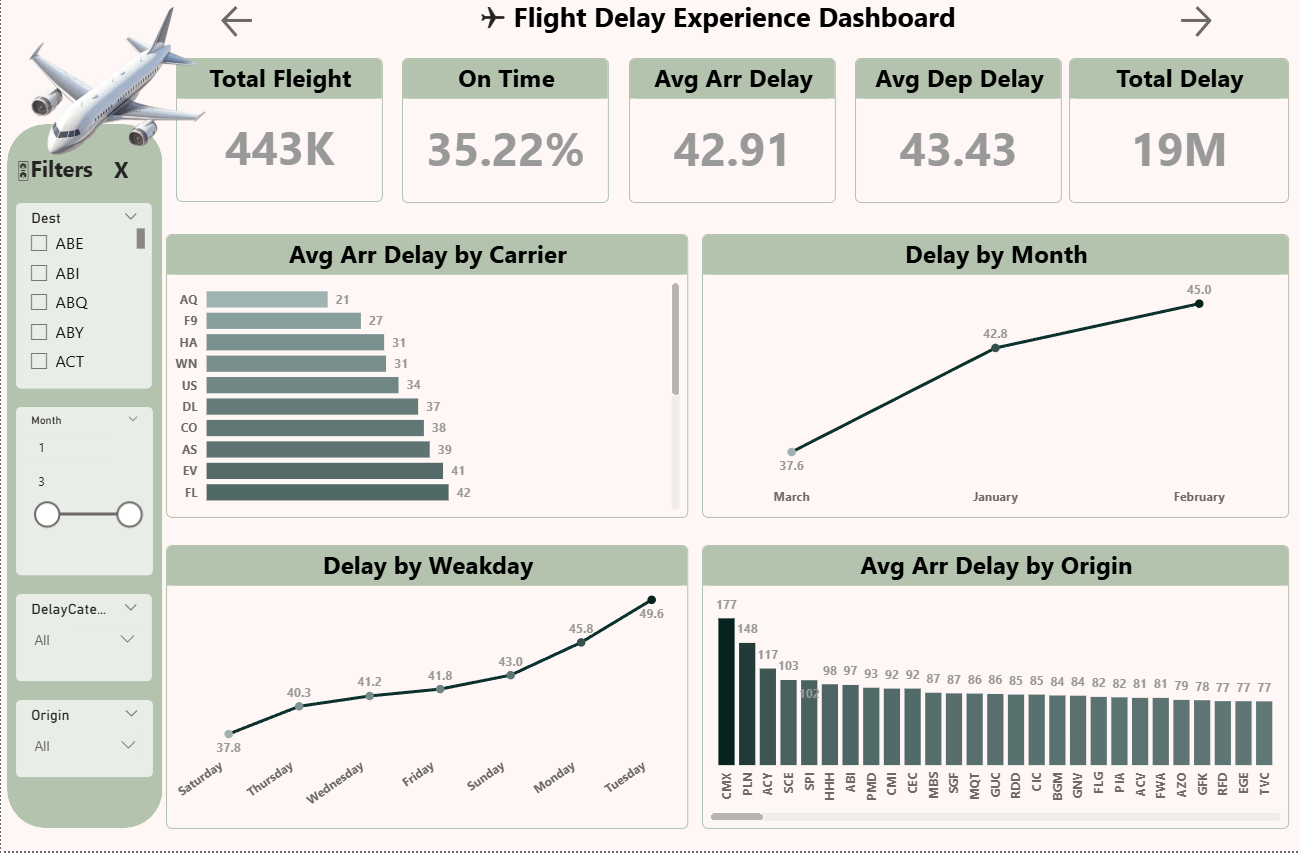

What the dashboard file says about the page in this screenshot:
{"tool":"powerbi","page":{"name":"Overview","canvas":[1280,850],"ordinal":1},"visuals":[{"type":"shape","box":[6.1,133.2,153.4,694.5],"z":0},{"type":"card","title":"Total Fleight","fields":{"Values":["Dax Measures.Total Flights"]},"box":[172.2,68.1,204.3,142],"z":1000},{"type":"card","title":"On Time","fields":{"Values":["Dax Measures.% OnTime"]},"box":[395.6,68.1,204.3,143],"z":2000},{"type":"card","title":"Avg Dep Delay","fields":{"Values":["Dax Measures.Avg Dep Delay"]},"box":[842.6,68.1,204.3,143],"z":3000},{"type":"card","title":"Avg Arr Delay","fields":{"Values":["Dax Measures.Avg Arr Delay"]},"box":[619.1,68.1,204.3,143],"z":4000},{"type":"card","title":"Total Delay","fields":{"Values":["Dax Measures.Total Delay"]},"box":[1053.1,68,216.9,143],"z":5000},{"type":"clusteredBarChart","title":"Avg Arr Delay by Carrier","fields":{"Y":["Dax Measures.Avg Arr Delay"],"Category":["Dim_Carrier.UniqueCarrier"]},"box":[162.4,241.2,514.5,280.1],"z":6000},{"type":"lineChart","title":"Delay by Month","fields":{"Category":["Dim_Date.Date.Variation.Date Hierarchy.Month"],"Y":["Dax Measures.Avg Arr Delay"]},"box":[691.6,241.2,578.7,280.1],"z":7000},{"type":"lineChart","title":"Delay by Weakday","fields":{"Category":["Dim_Date.Day Name"],"Y":["Dax Measures.Avg Arr Delay"]},"box":[162.7,548.3,514.7,280],"z":8000},{"type":"columnChart","fields":{"Category":["Dim_Origin.Origin"],"Y":["Dax Measures.Avg Arr Delay"]},"box":[691.2,548.3,578.8,280],"z":9000},{"type":"textbox","box":[454.6,3.9,503.9,48.3],"z":10000},{"type":"image","box":[0,0,219.9,202.1],"z":11000},{"type":"slicer","fields":{"Values":["Dim_Date.Month"]},"box":[13.5,411.4,136.9,167.7],"z":12000},{"type":"slicer","fields":{"Values":["Dim_Dest.Dest"]},"box":[14.1,210,136.3,184.7],"z":13000},{"type":"slicer","fields":{"Values":["Dim_Origin.Origin"]},"box":[13.8,700.1,137.1,77.9],"z":14000},{"type":"slicer","fields":{"Values":["Dim_DelayCategory.DelayCategory"]},"box":[14.1,595.6,136.3,87.8],"z":15000},{"type":"textbox","box":[9.9,157.8,87.8,40.4],"z":16000},{"type":"actionButton","box":[9.9,153.8,87.8,48.3],"z":17000},{"type":"actionButton","box":[100.6,153.8,35.5,48.3],"z":18000},{"type":"textbox","box":[100.6,158.8,35.5,39.4],"z":19000},{"type":"actionButton","box":[213,11.8,48.3,40.4],"z":20000},{"type":"actionButton","box":[1157.7,11.8,99.6,40.4],"z":21000}]}

Visuals, with their boxes on the page's 1280x850 design canvas (x1, y1, x2, y2). These are canvas units, not pixel positions in the 1300x853 screenshot, which may show the page scaled, cropped or inside an application window:
shape: locate(6, 133, 160, 828)
"Total Fleight" card: locate(172, 68, 376, 210)
"On Time" card: locate(396, 68, 600, 211)
"Avg Dep Delay" card: locate(843, 68, 1047, 211)
"Avg Arr Delay" card: locate(619, 68, 823, 211)
"Total Delay" card: locate(1053, 68, 1270, 211)
"Avg Arr Delay by Carrier" clusteredBarChart: locate(162, 241, 677, 521)
"Delay by Month" lineChart: locate(692, 241, 1270, 521)
"Delay by Weakday" lineChart: locate(163, 548, 677, 828)
columnChart - Dim_Origin.Origin x Dax Measures.Avg Arr Delay: locate(691, 548, 1270, 828)
textbox: locate(455, 4, 958, 52)
image: locate(0, 0, 220, 202)
slicer - Dim_Date.Month: locate(14, 411, 150, 579)
slicer - Dim_Dest.Dest: locate(14, 210, 150, 395)
slicer - Dim_Origin.Origin: locate(14, 700, 151, 778)
slicer - Dim_DelayCategory.DelayCategory: locate(14, 596, 150, 683)
textbox: locate(10, 158, 98, 198)
actionButton: locate(10, 154, 98, 202)
actionButton: locate(101, 154, 136, 202)
textbox: locate(101, 159, 136, 198)
actionButton: locate(213, 12, 261, 52)
actionButton: locate(1158, 12, 1257, 52)
